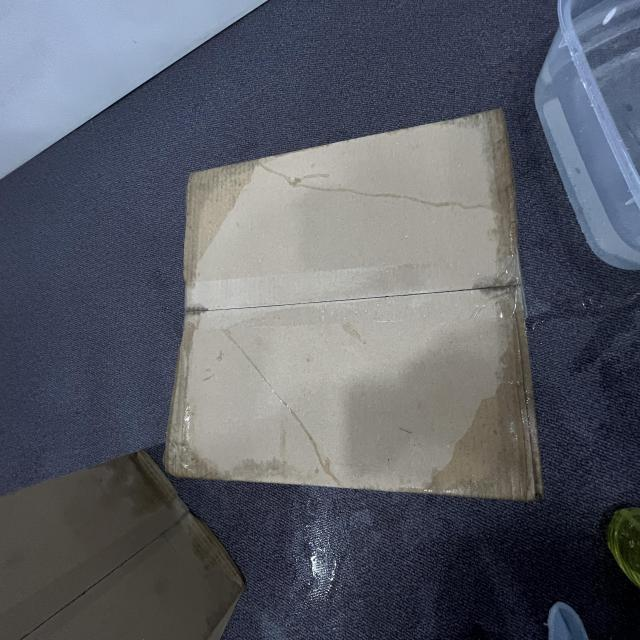wet: (109, 571, 264, 640), (123, 218, 246, 301), (268, 242, 356, 346), (265, 638, 403, 640)
